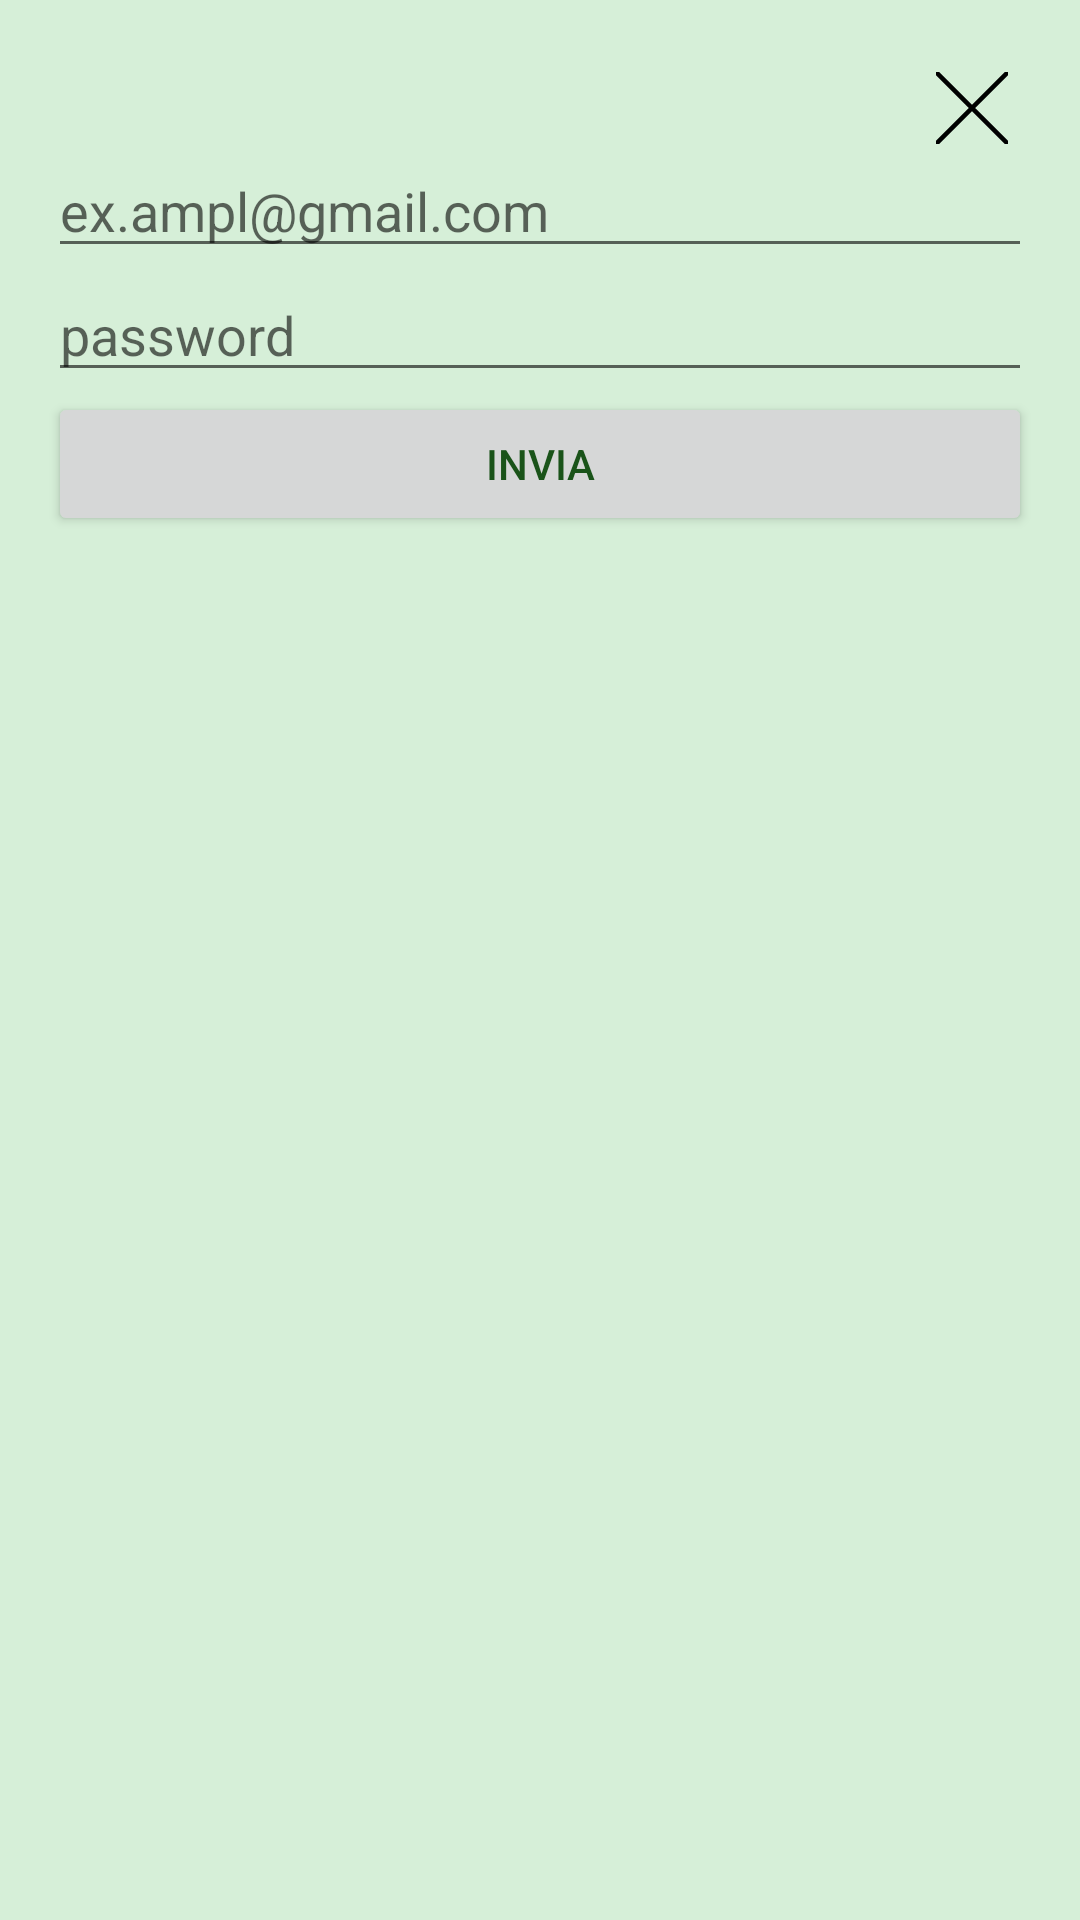

Icon click points for this 1080w x 1920h phone screenshot, format (x=x, y=y):
close: (x=972, y=108)
